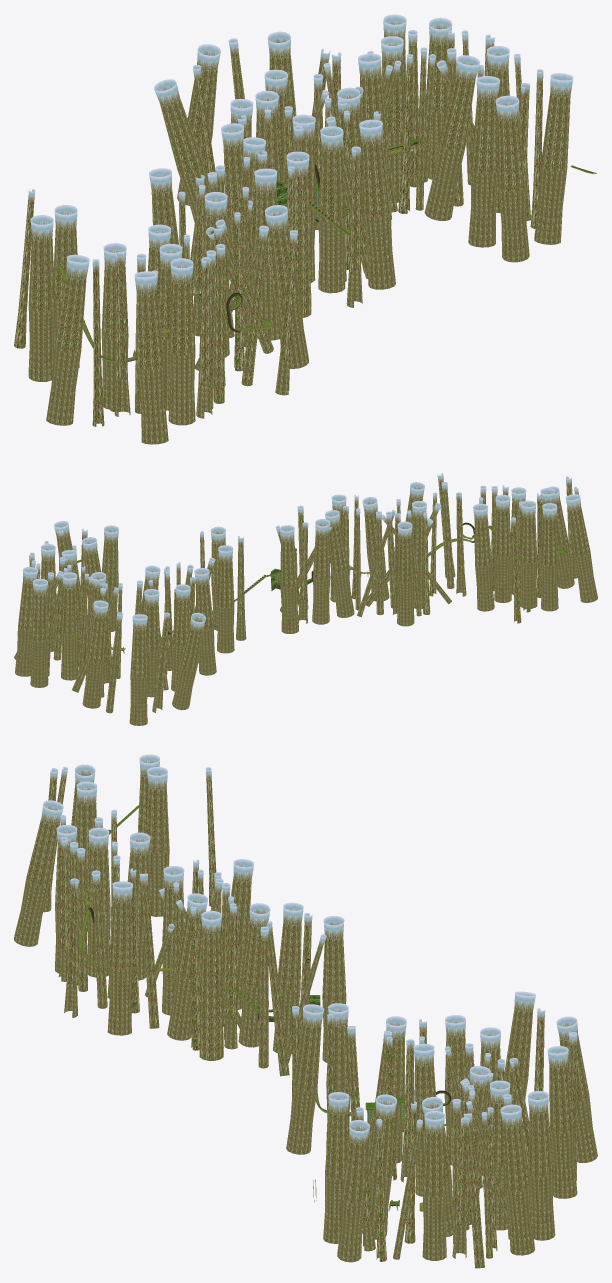
Rendered from WhiteJungle.obj.
3 views of the same model, one above another, from view 1: azimuth 30°, elevation 25°; view 2: azimuth 150°, elevation 25°; view 3: azimuth 270°, elevation 25° (orthographic). The views are drawn at different scales.
Size of the model in its own units: 15216 by 5523 by 12591.
27 materials, 27 textured.
